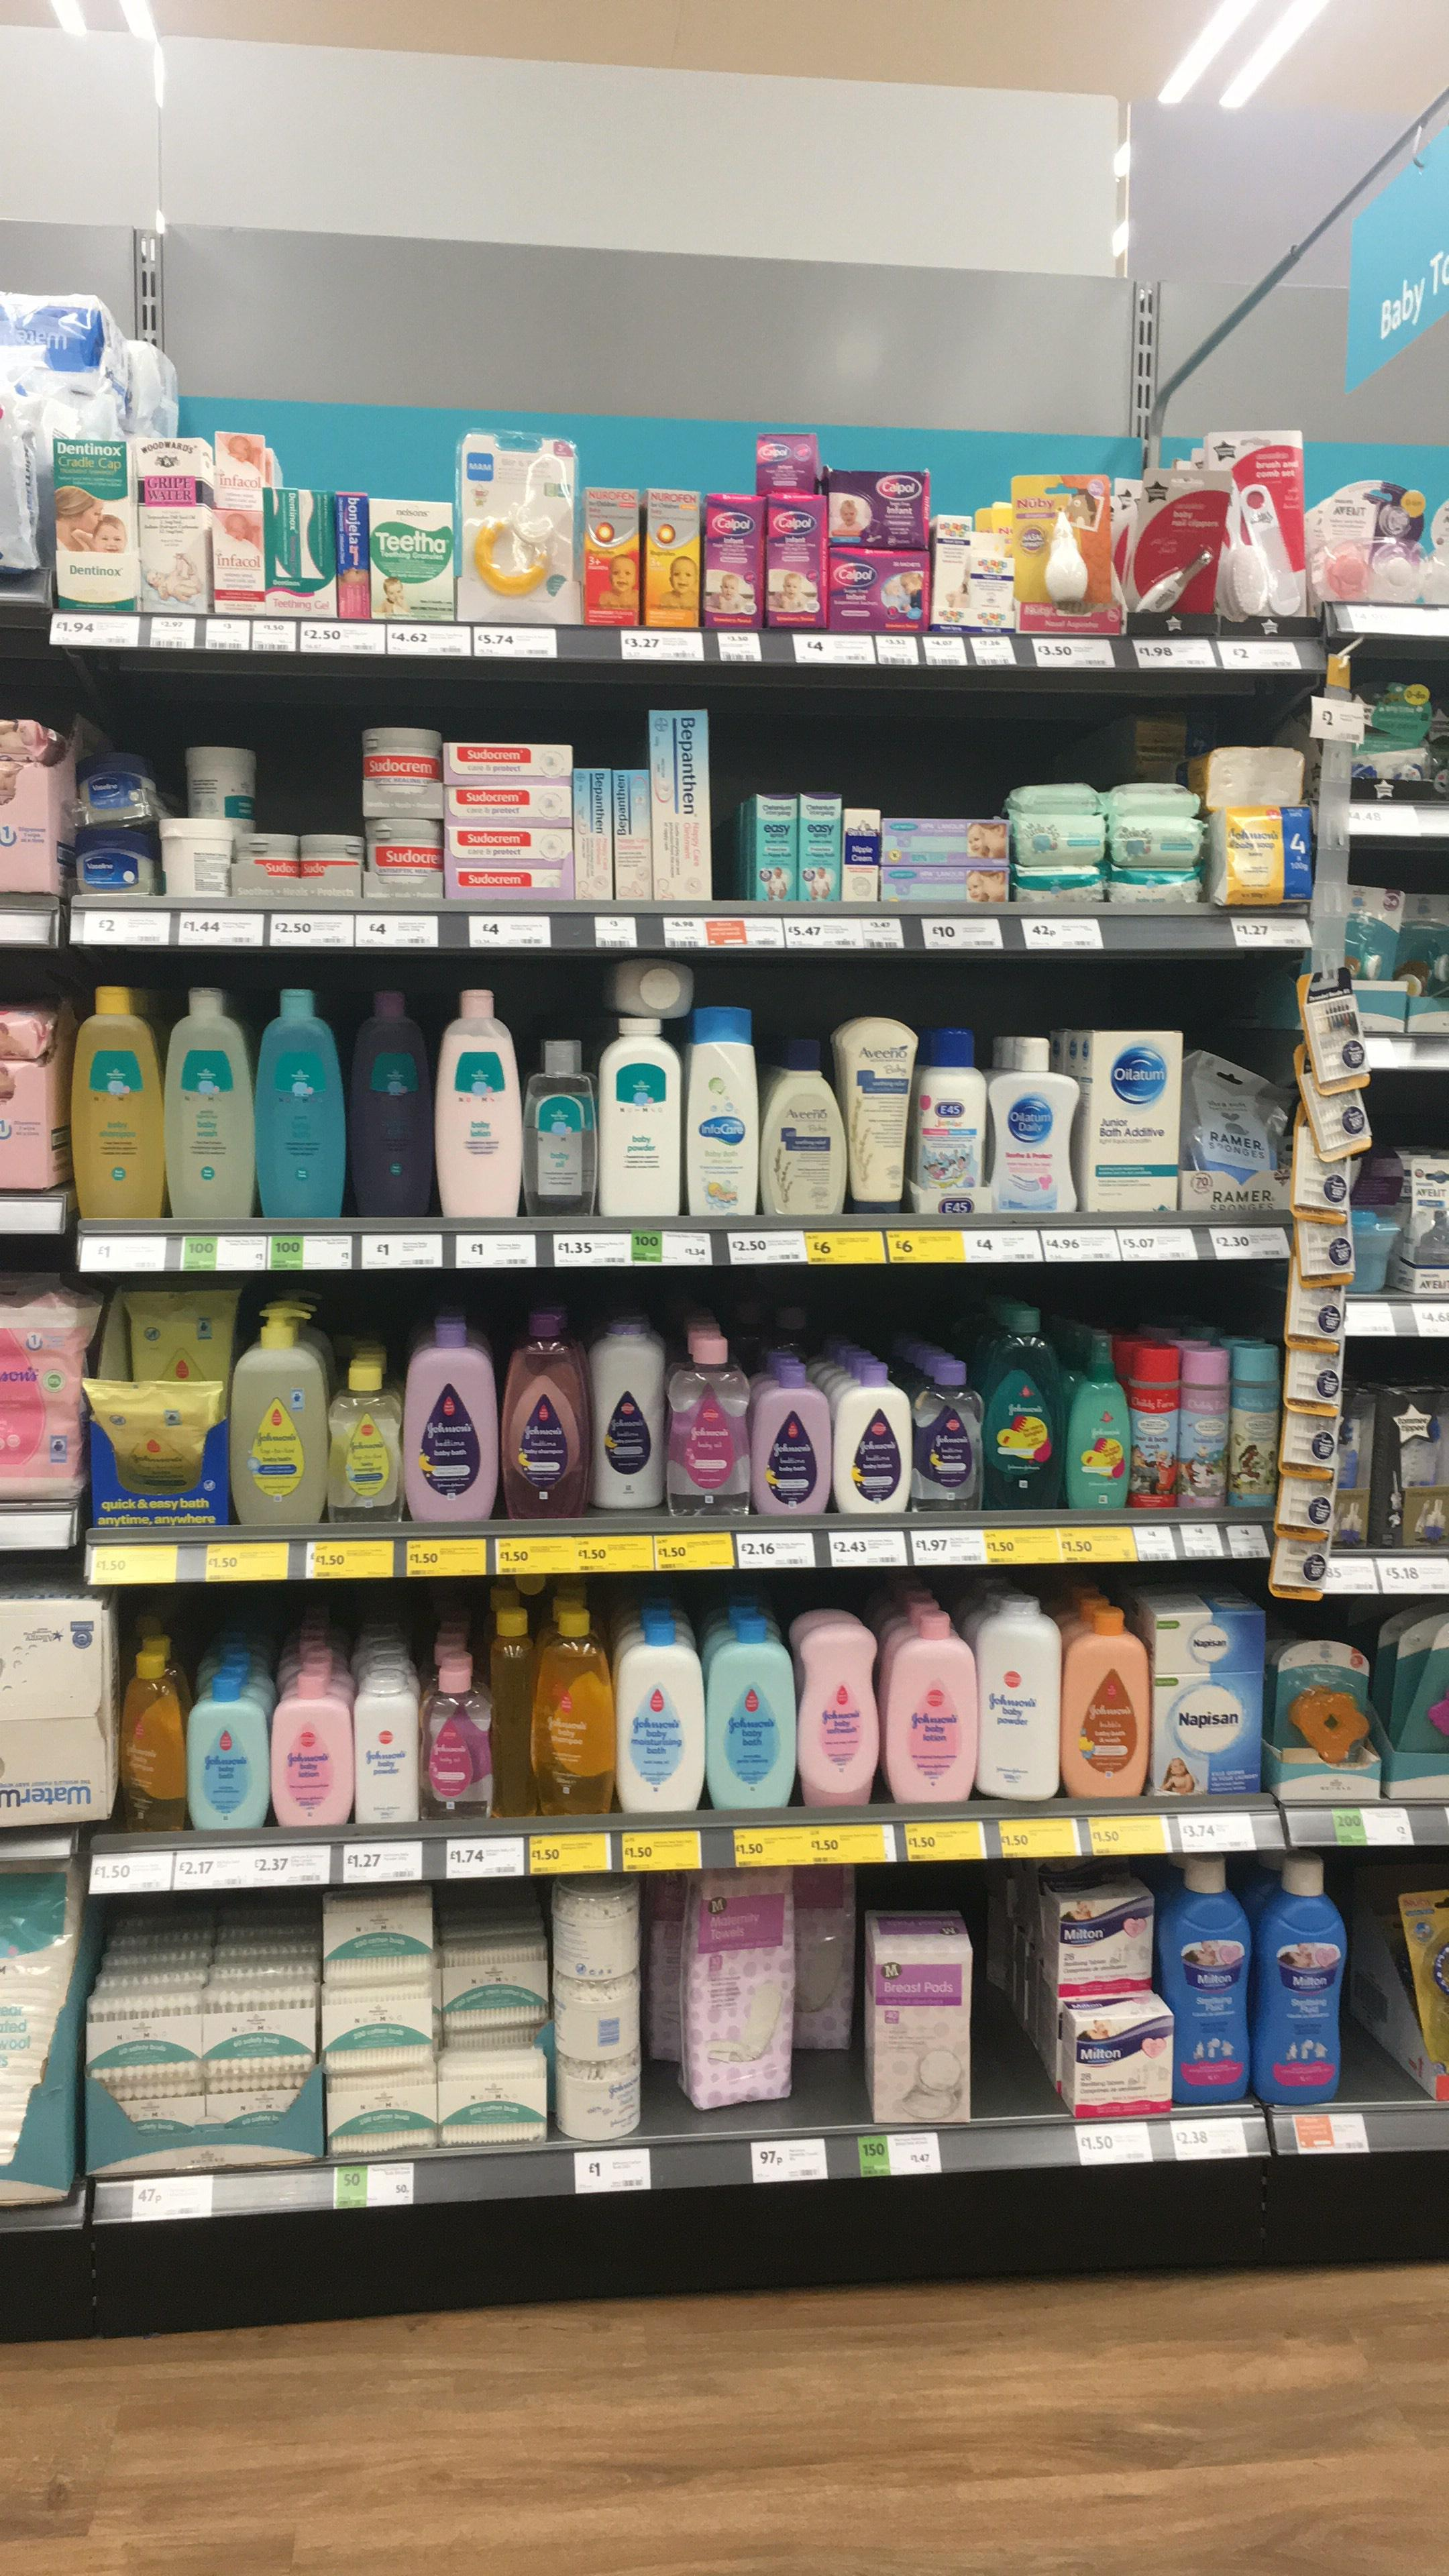misalignment: (671, 1870, 801, 2112), (73, 1361, 225, 1504), (1182, 1035, 1288, 1171), (1131, 472, 1224, 623), (1178, 729, 1316, 809), (124, 1640, 182, 1817), (598, 941, 717, 1024), (487, 1617, 538, 1799)
